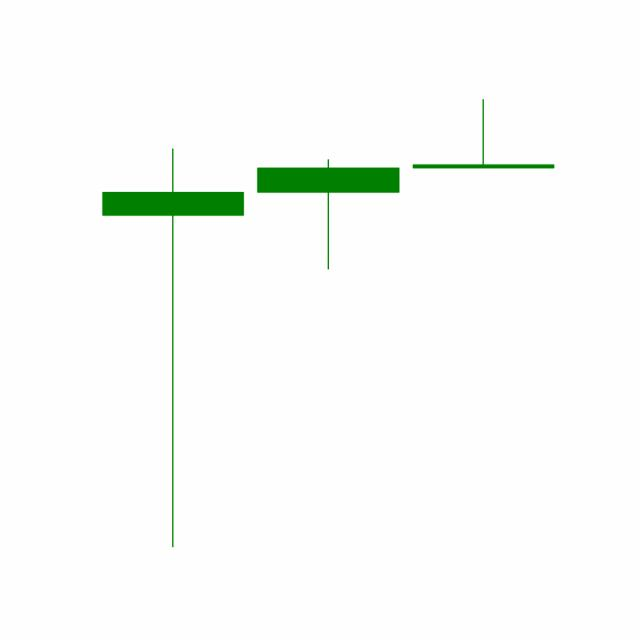Gravestone Doji: (405, 98, 561, 168)
